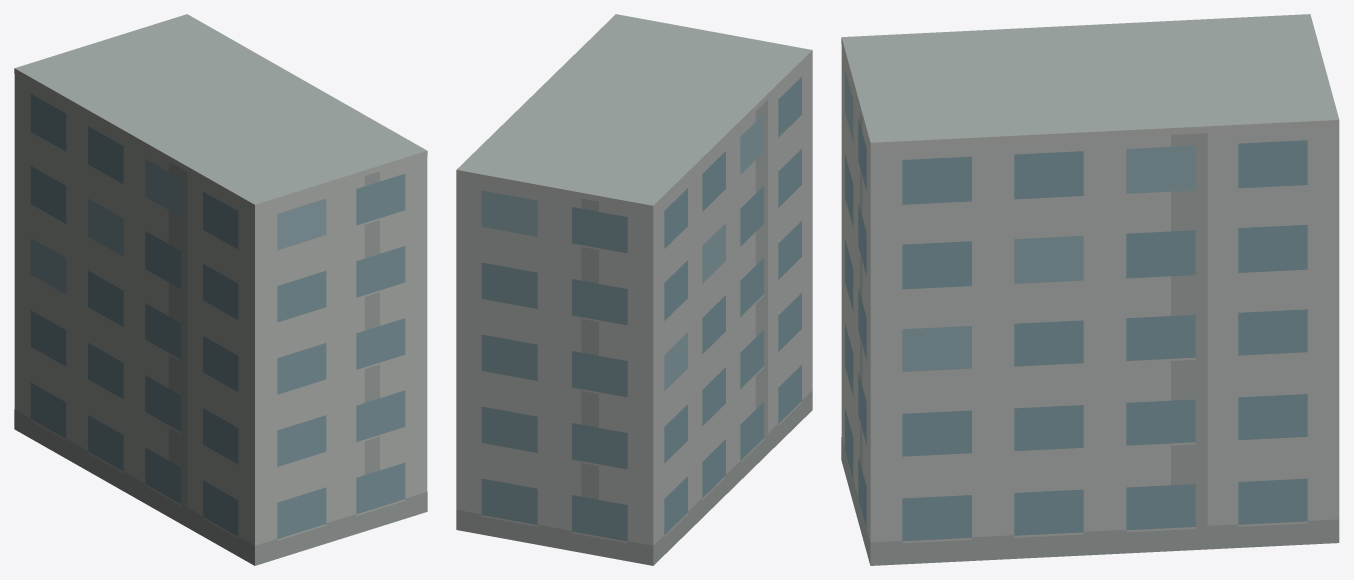
File: residential-df1f71ae-813c-4aa3-a9c3-dfafea3eaf75.glb
3 views of the same model, side by side, from view 1: azimuth 30°, elevation 25°; view 2: azimuth 150°, elevation 25°; view 3: azimuth 270°, elevation 25° (orthographic). The views are drawn at different scales.
Parts seen in each view (by area): view 1: residential-df1f71ae-813c-4aa3-a9c3-dfafea3eaf75.tmp; view 2: residential-df1f71ae-813c-4aa3-a9c3-dfafea3eaf75.tmp; view 3: residential-df1f71ae-813c-4aa3-a9c3-dfafea3eaf75.tmp.
Boxes of the visible parts, bbox=[...] form: residential-df1f71ae-813c-4aa3-a9c3-dfafea3eaf75.tmp: bbox=[14, 14, 427, 565]; residential-df1f71ae-813c-4aa3-a9c3-dfafea3eaf75.tmp: bbox=[456, 14, 812, 565]; residential-df1f71ae-813c-4aa3-a9c3-dfafea3eaf75.tmp: bbox=[841, 14, 1339, 565].
Bounding box in the file's own units: 9.97 × 15.25 × 16.28.
